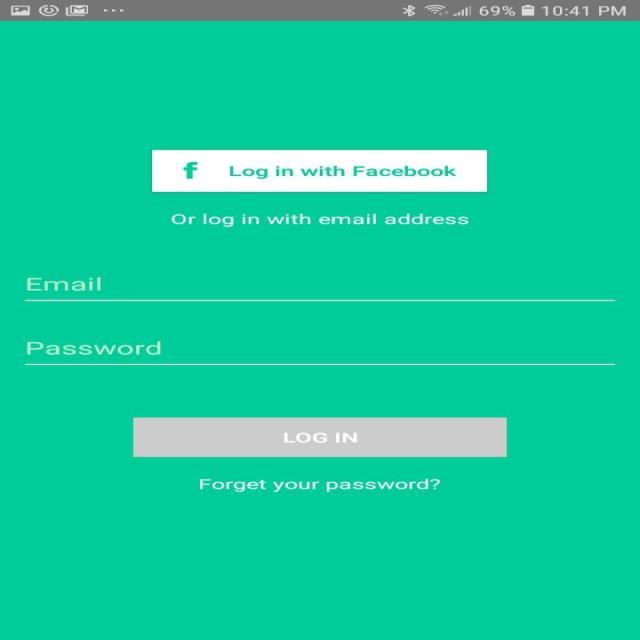EditText: (24, 340, 615, 365), (25, 277, 615, 301)
Text: (170, 213, 468, 227), (198, 478, 440, 492), (26, 341, 160, 355), (27, 277, 102, 291)
TextButton: (133, 417, 507, 457), (151, 149, 487, 192)
